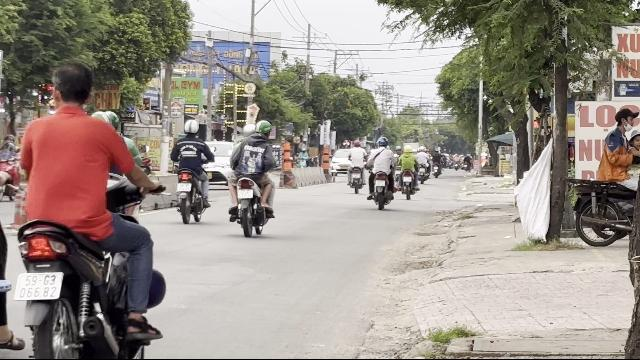helmet: (254, 119, 272, 137)
licenseplate: (15, 272, 62, 300), (238, 188, 252, 197)
motorcyclist: (1, 64, 169, 356), (226, 118, 278, 236)
nohelmet: (48, 63, 96, 110)
